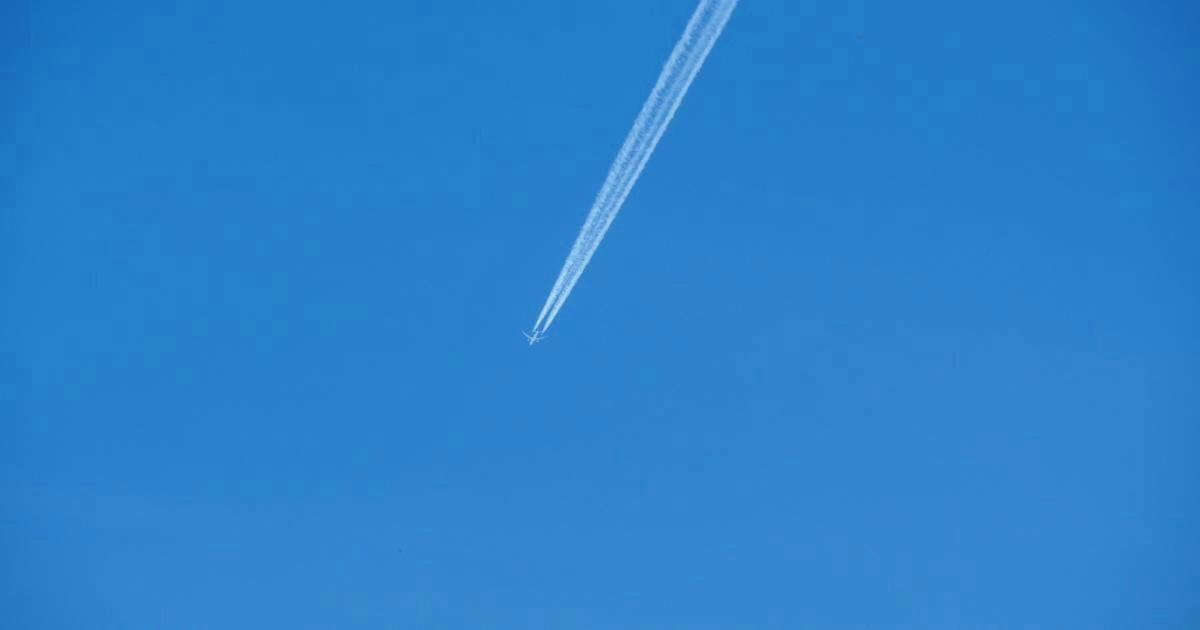Plane: (463, 0, 757, 394)
